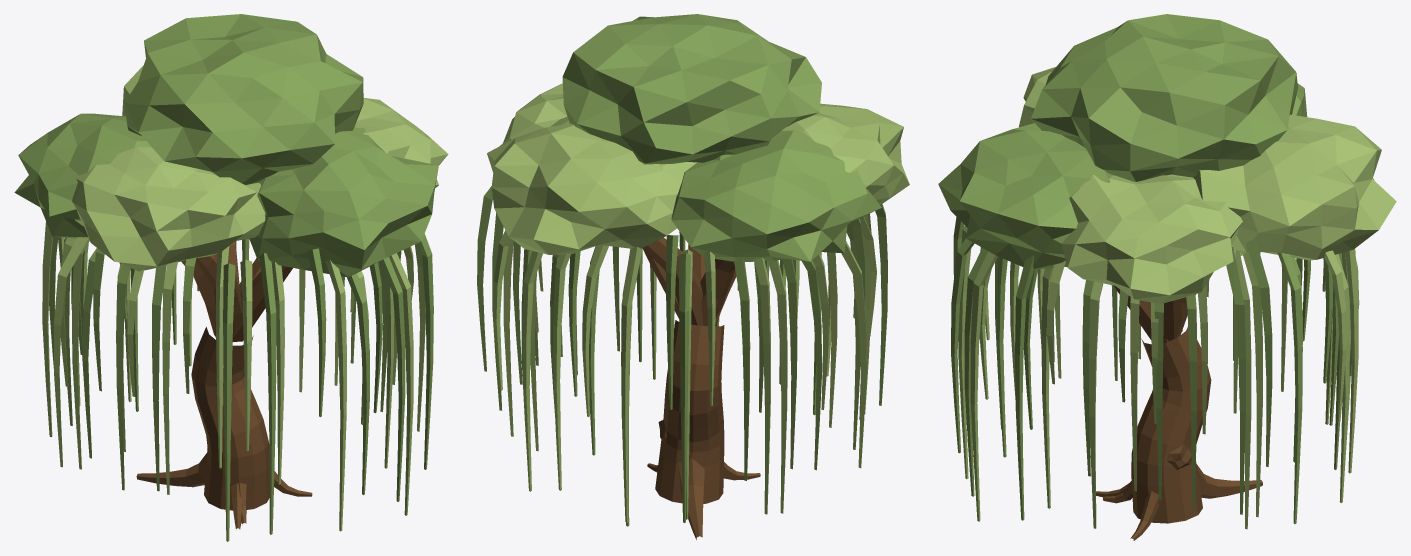
The model's file is willow-a.glb.
The picture shows the model from 3 angles, left to right: view 1: azimuth 30°, elevation 25°; view 2: azimuth 150°, elevation 25°; view 3: azimuth 270°, elevation 25°; orthographic projection. The views are drawn at different scales.
Visible parts, largest first — view 1: Body_Leaves2, Body_Leaves, Body_Bark; view 2: Body_Leaves2, Body_Leaves, Body_Bark; view 3: Body_Leaves2, Body_Leaves, Body_Bark.
Part boxes in pixels (bbox=[...]): Body_Leaves2: bbox=[14, 14, 438, 541]; Body_Leaves: bbox=[42, 65, 448, 531]; Body_Bark: bbox=[136, 241, 312, 529]; Body_Leaves2: bbox=[477, 14, 887, 526]; Body_Leaves: bbox=[487, 83, 909, 522]; Body_Bark: bbox=[642, 237, 760, 539]; Body_Leaves2: bbox=[938, 14, 1342, 523]; Body_Leaves: bbox=[958, 67, 1396, 529]; Body_Bark: bbox=[1096, 285, 1262, 540].
Size of the model in its own units: 7 by 8 by 7.
